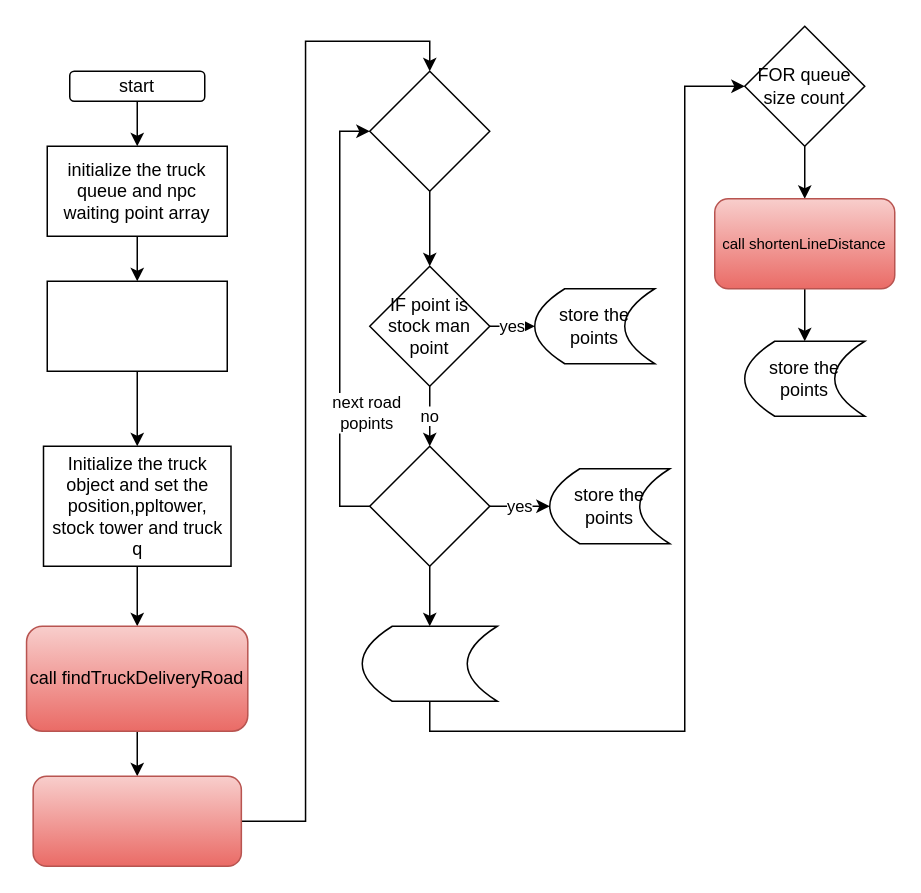
The diagram is 921 pixels wide and 893 high, and some of its shapes have lost their labels. Here are the shapes that lost their labels. From the top down, the box of each, then its label:
(368, 70, 490, 191): FOR delivery road points
(46, 280, 227, 371): get the arena player data and truck data
(368, 445, 490, 566): ELSE IF point is mech man point
(361, 625, 497, 701): store the truck queue service point
(32, 775, 241, 866): call findNewPoint for attack npc trigger point
